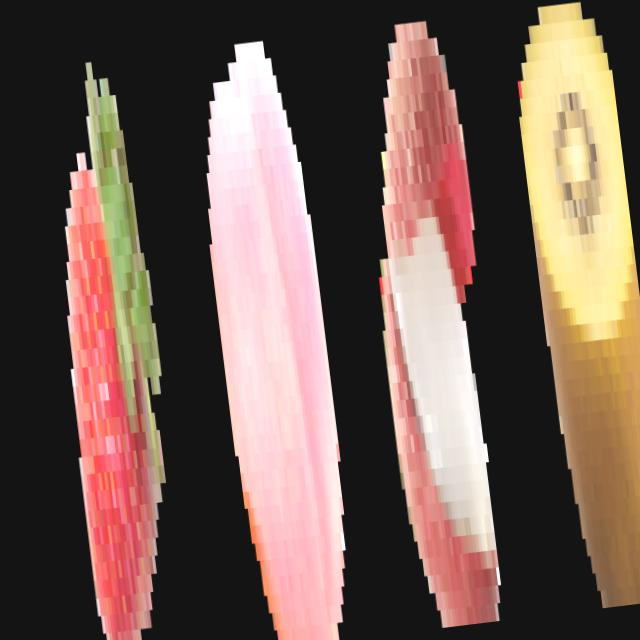lychee: (335, 0, 528, 631), (22, 39, 201, 640)
peach: (177, 19, 368, 640)
pomegranate: (495, 0, 640, 611)
